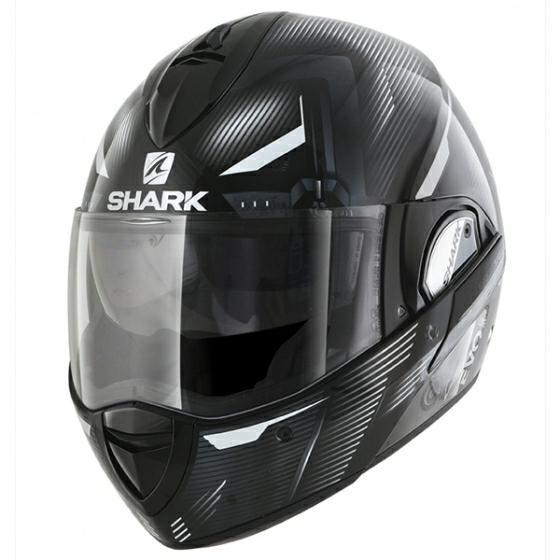with_helmet: (60, 8, 512, 549)
